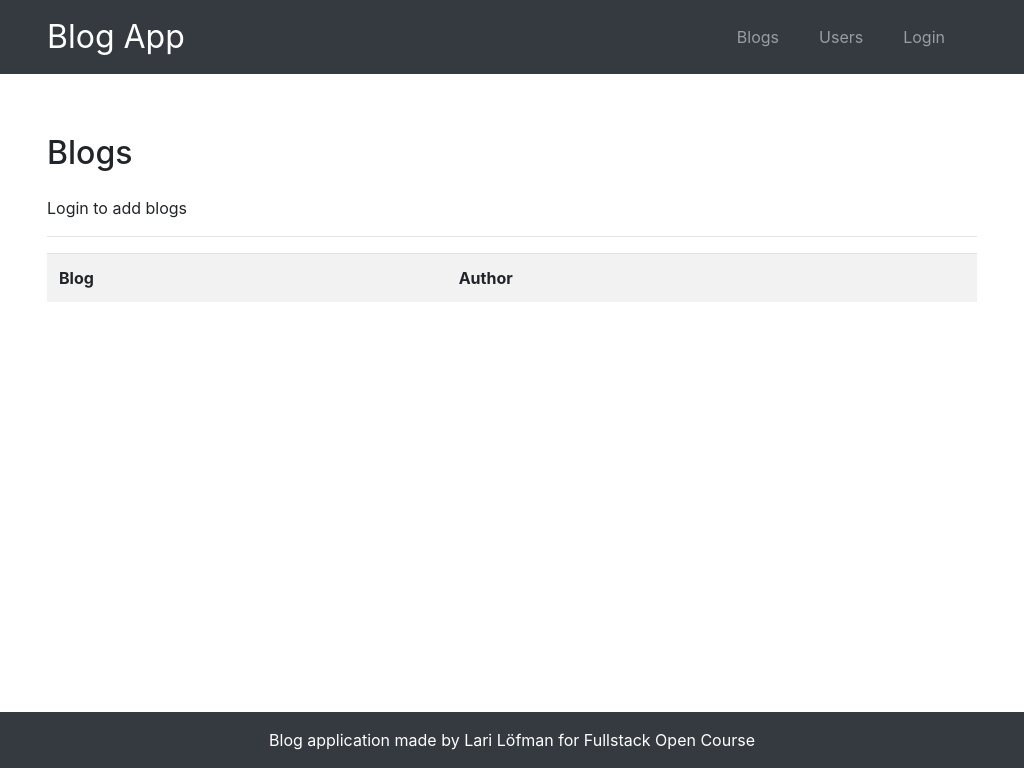
Blog app › Login › fails with wrong credentials
Click the link "Login" at (924, 37), box [903, 27, 945, 47]
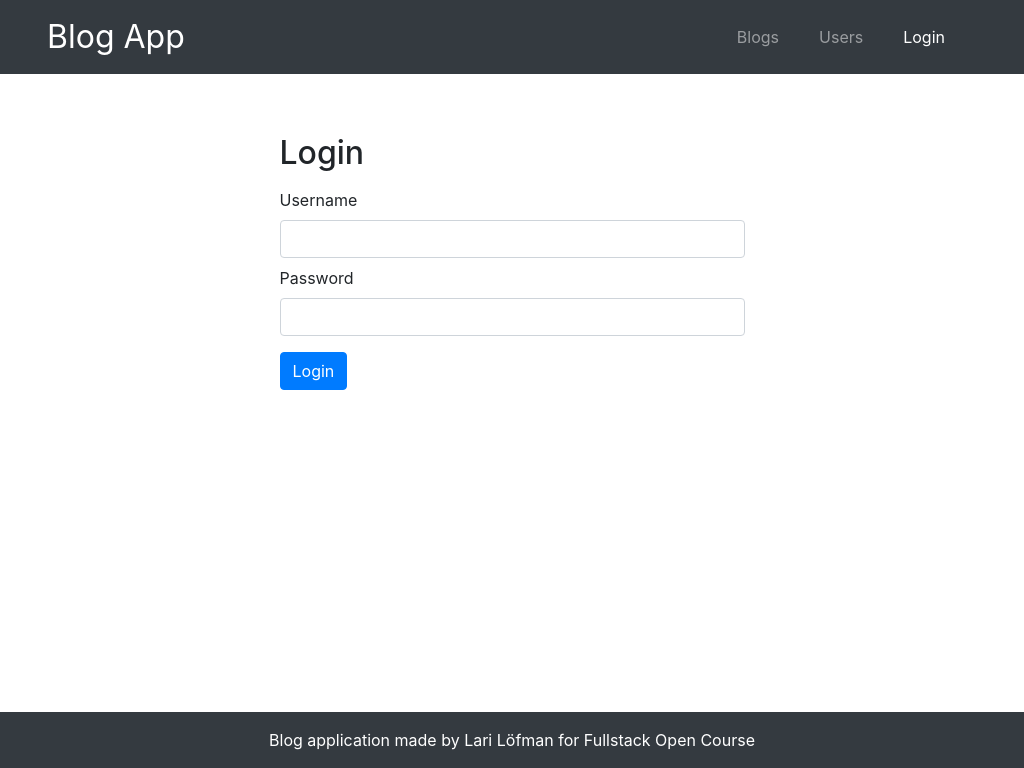
Type "coco" into the field with id "username" at (513, 239), box [280, 220, 745, 258]
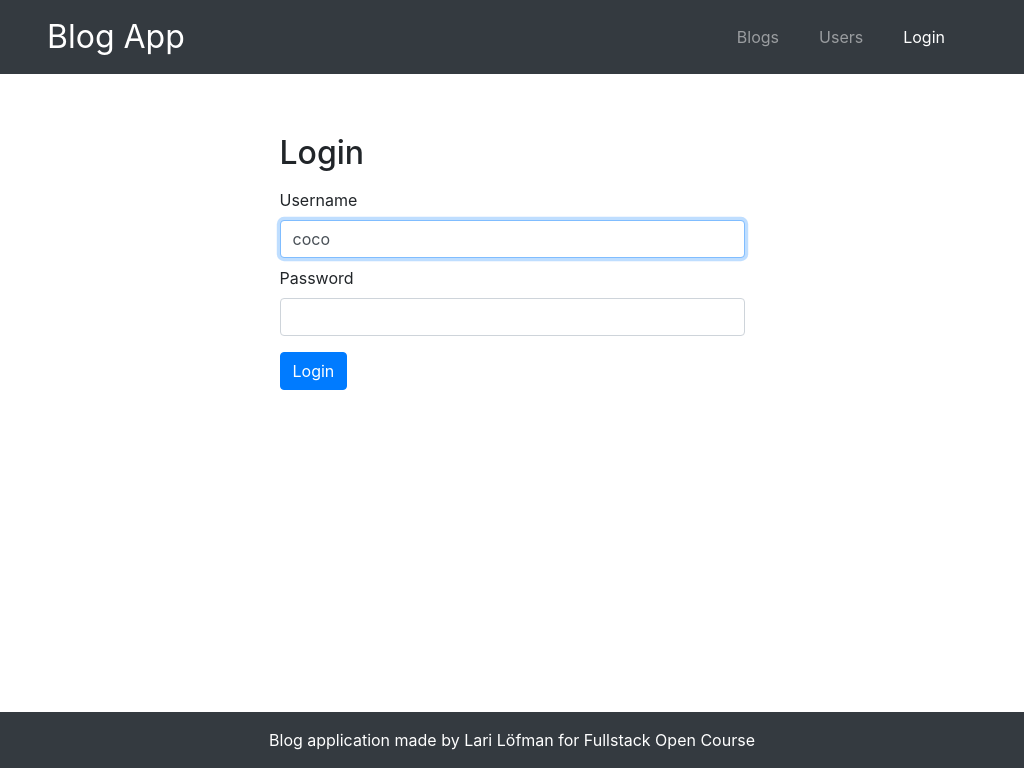
Type "vääräpassu1" into the password field labelled "Password" at (513, 317), box [280, 298, 745, 336]
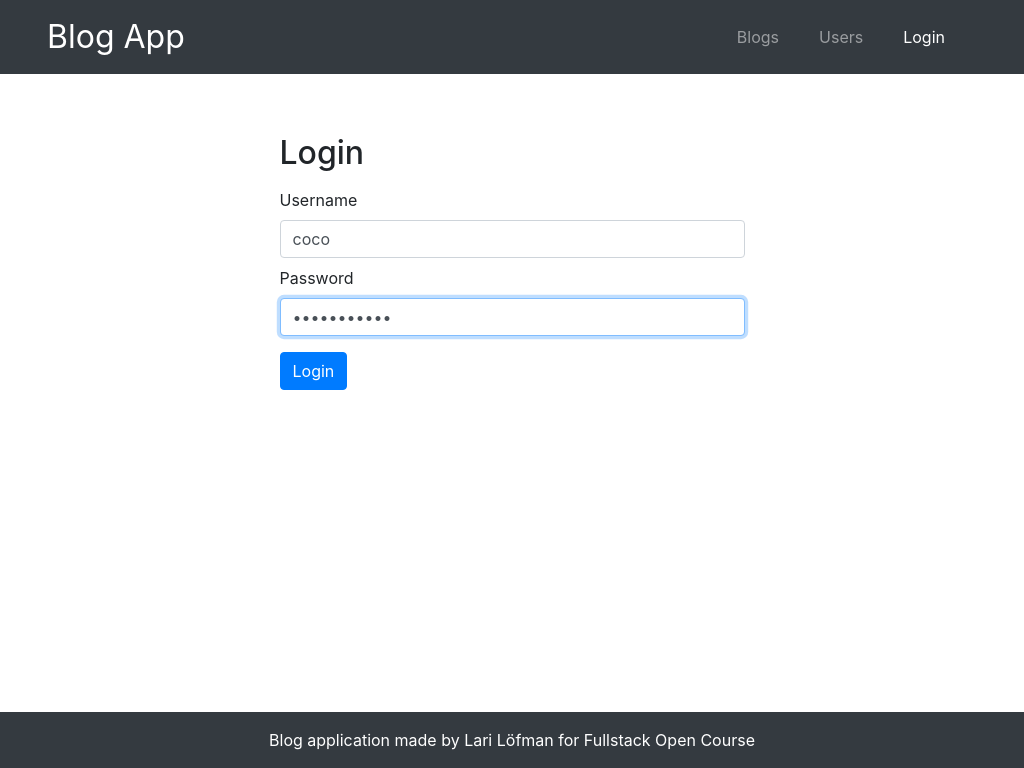
Click the button with id "login-button" at (314, 371), box [280, 352, 348, 390]
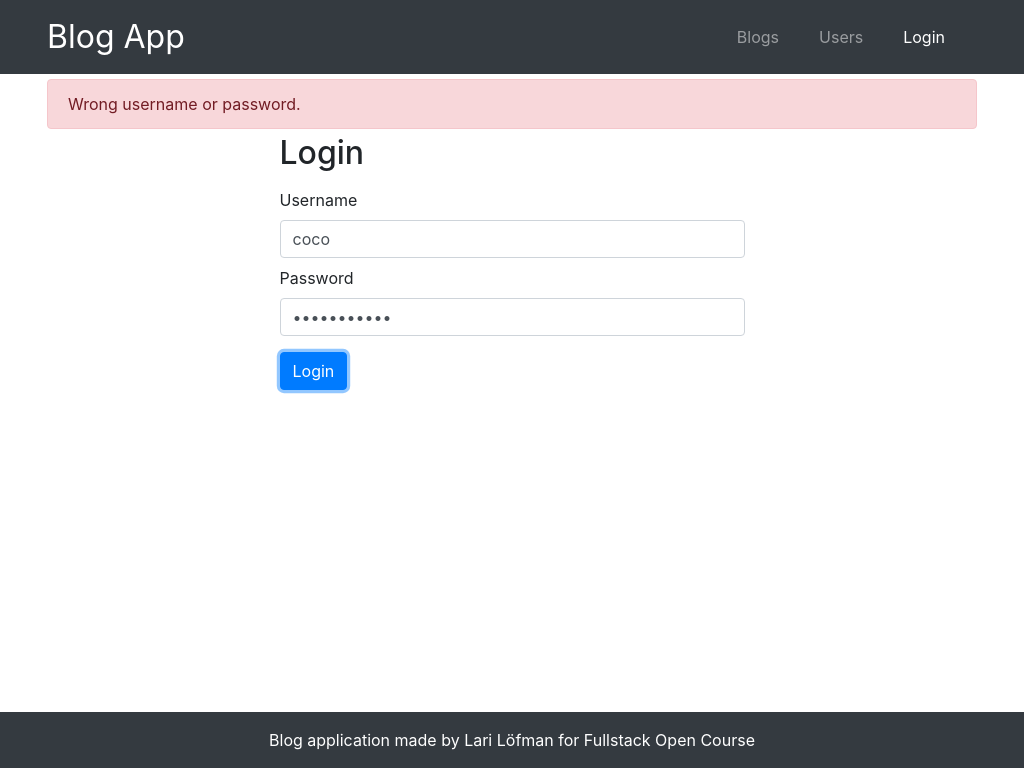
Check: the text "Wrong username or password." is shown, box [47, 79, 977, 129]
